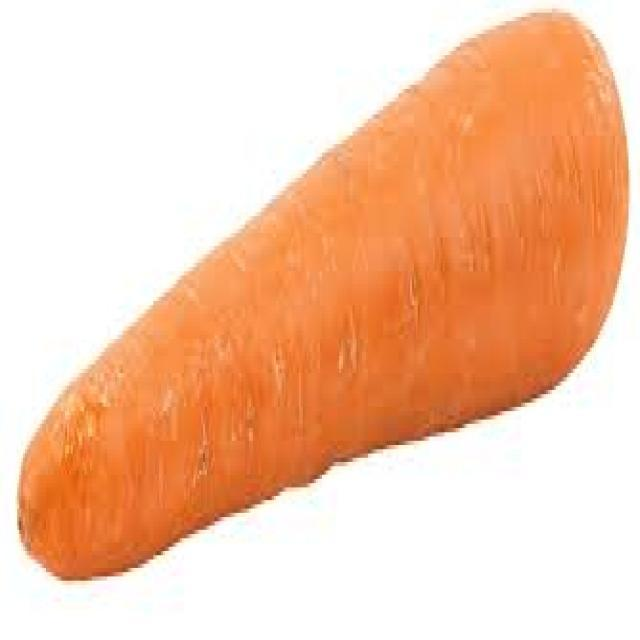carrot: (19, 14, 628, 578)
